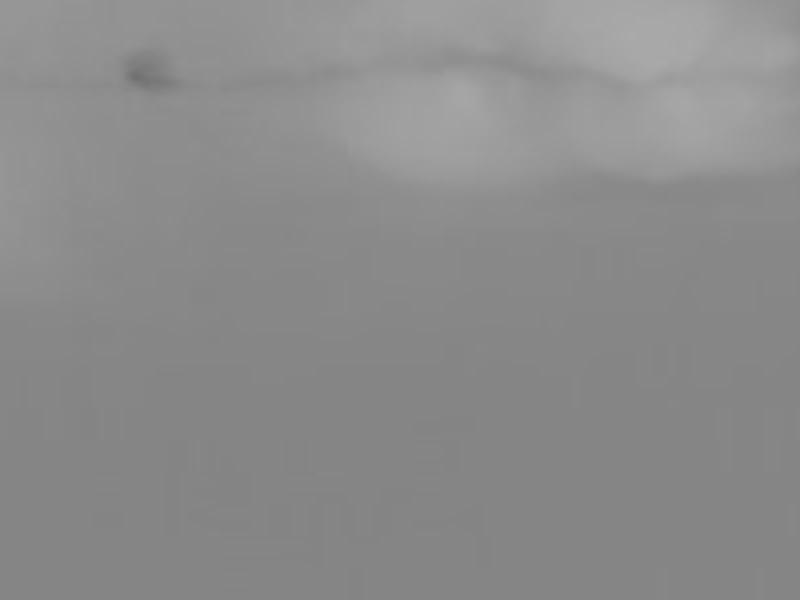defect: (120, 44, 177, 90)
